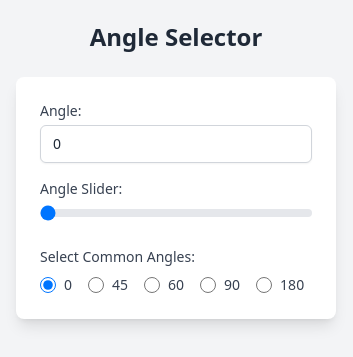
it: AngleSelector Component › simplifies angle on Enter key press
The image size is (353, 357).
Replace the text in the number field labelled "Angle:" with "400" at (176, 144), box [40,125,312,163]
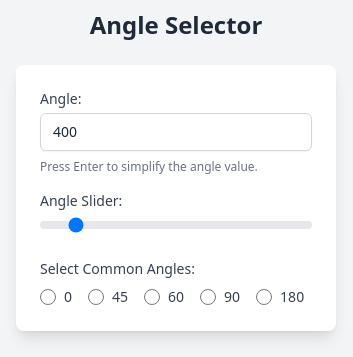
Press Enter in the number field labelled "Angle:", box [40,113,312,151]
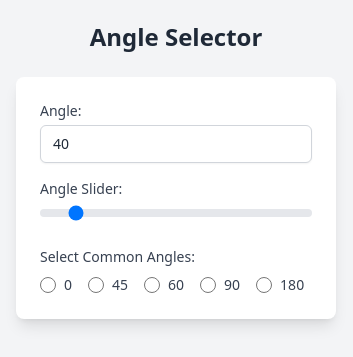
Expected: the slider labelled "Angle Slider:" holds "40", [40,209,312,217]
Expected: the number field labelled "Angle:" holds "40", [40,125,312,163]
